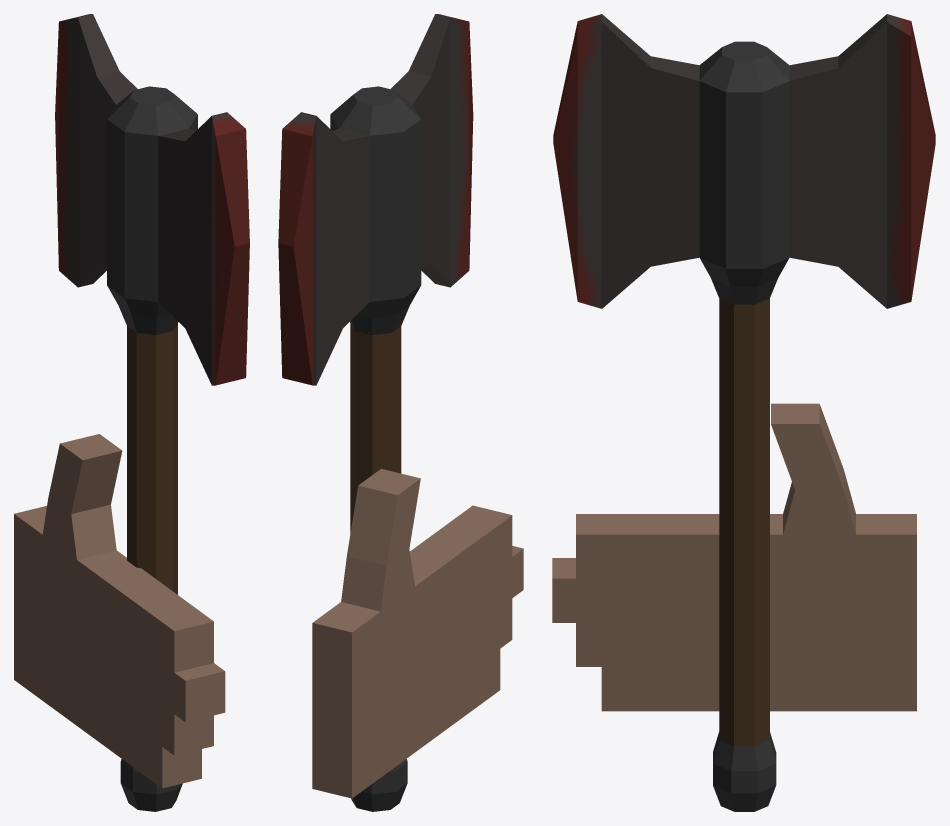
The model's file is org2.fbx.
3 renders of one model, left to right at view 1: azimuth 30°, elevation 25°; view 2: azimuth 150°, elevation 25°; view 3: azimuth 270°, elevation 25°, orthographic. The views are drawn at different scales.
Visible parts, largest first — view 1: Cube, Cube.001; view 2: Cube, Cube.001; view 3: Cube, Cube.001.
Boxes of the visible parts, x1=… form: Cube: x1=55, y1=14, x2=249, y2=811; Cube.001: x1=14, y1=434, x2=225, y2=788; Cube: x1=278, y1=14, x2=473, y2=811; Cube.001: x1=312, y1=468, x2=523, y2=798; Cube: x1=553, y1=14, x2=935, y2=811; Cube.001: x1=552, y1=403, x2=916, y2=711.
Bounding box in the file's own units: 2.37 × 17.75 × 7.87.
Materials: 2 (2 with a texture image).
